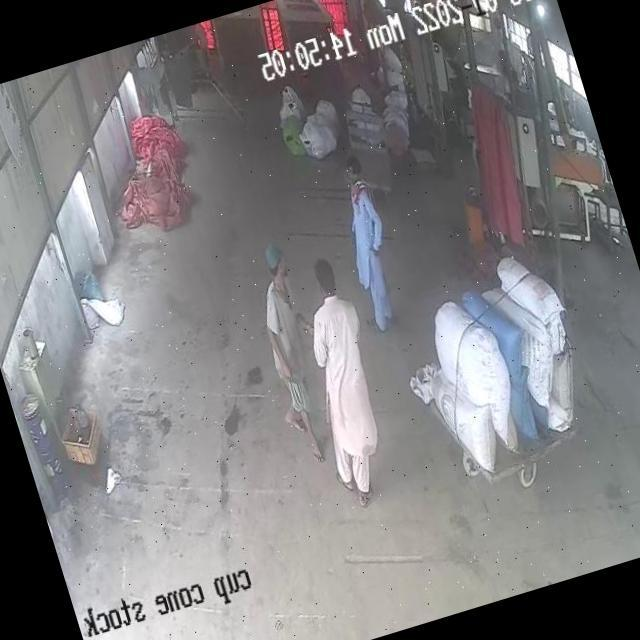person: (273, 250, 404, 504), (234, 240, 337, 448), (328, 154, 408, 324)
